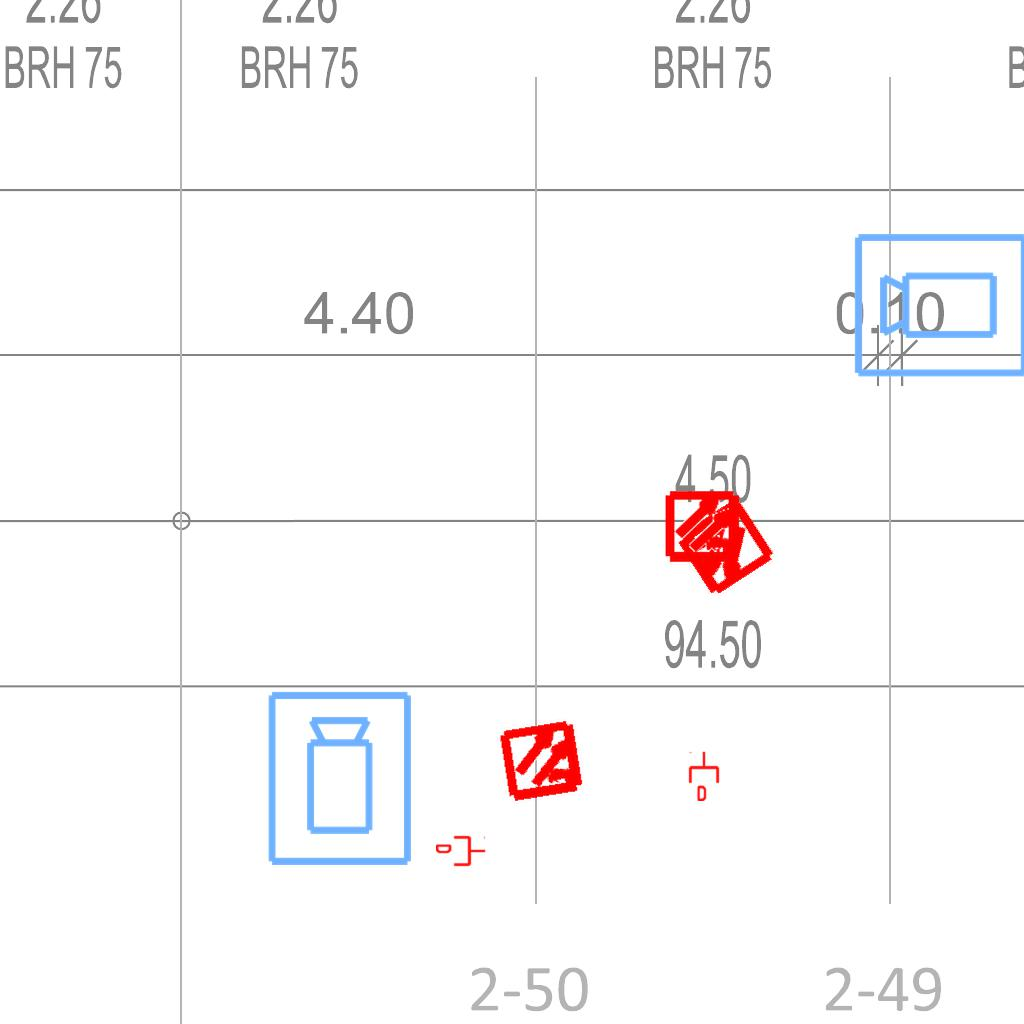Datenanschluss_einfach: (436, 834, 486, 868), (687, 751, 721, 801)
KFO_Kamera_mit_Festobjektiv: (264, 688, 418, 870), (851, 227, 1024, 381)
OT_Multisensormelder_(Kombination_RMO_WMD): (645, 470, 802, 627), (478, 695, 609, 826), (648, 470, 761, 583)
